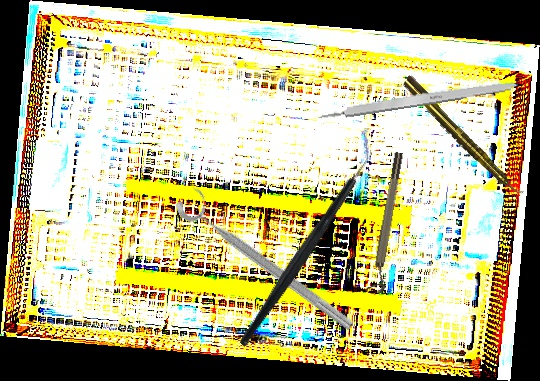Chopper: (185, 136, 426, 349)
Fixation Ring: (172, 182, 365, 336), (365, 151, 412, 295)
Handpiece: (400, 73, 525, 202)
Scalpel Handle: (315, 75, 524, 123)
